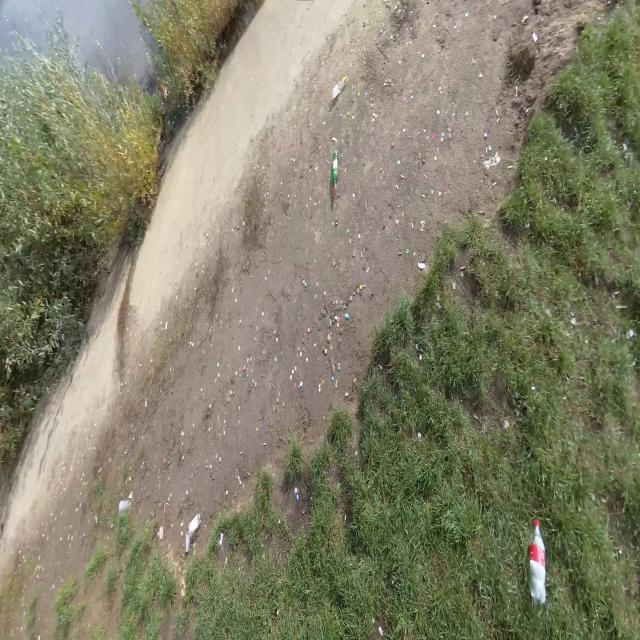rubbish: (528, 519, 546, 605), (330, 76, 348, 103), (188, 511, 200, 536), (332, 150, 338, 199), (120, 498, 132, 511), (185, 533, 191, 552)
